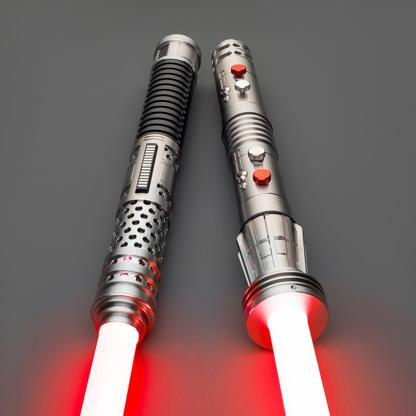sith_lightsaber: (60, 28, 213, 415), (204, 31, 358, 414)
